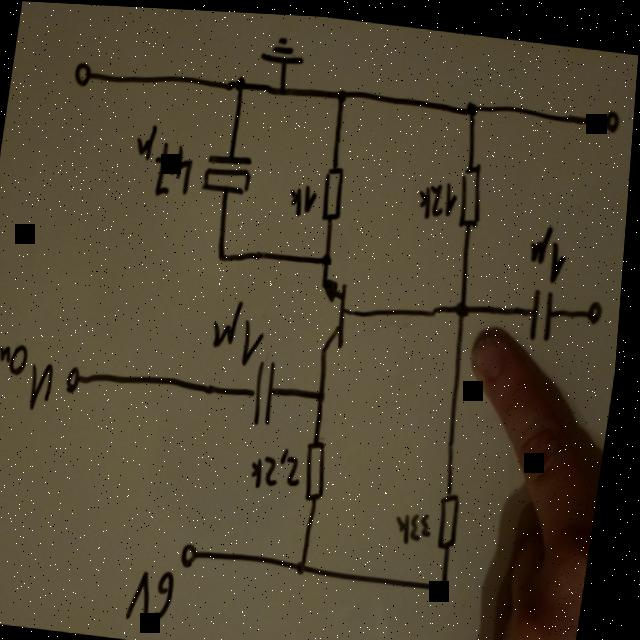capacitor: (200, 141, 261, 201), (246, 356, 290, 429), (520, 277, 568, 340)
ground: (257, 30, 308, 73)
junction: (454, 292, 478, 320), (233, 70, 250, 94), (464, 95, 483, 116), (301, 555, 319, 576), (318, 383, 335, 403), (275, 80, 292, 100), (335, 84, 352, 104), (321, 248, 338, 268), (218, 245, 232, 264), (446, 575, 460, 592)
resistor: (456, 155, 495, 230), (304, 432, 342, 505), (317, 157, 355, 227), (438, 482, 473, 554)
terminal: (70, 59, 100, 90), (185, 538, 212, 571), (66, 363, 92, 397), (599, 100, 627, 131), (588, 291, 610, 323)
text: (129, 119, 203, 203), (0, 338, 65, 415), (209, 296, 274, 366), (131, 562, 188, 627), (253, 440, 314, 495), (524, 216, 575, 281), (414, 172, 464, 221), (398, 505, 443, 546), (288, 179, 323, 218)
transistor: (309, 270, 364, 358)
